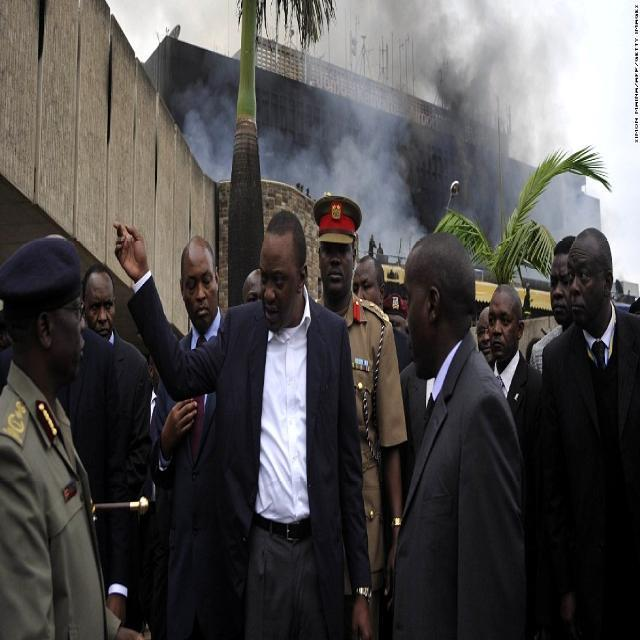Smoke: (272, 0, 618, 242)
